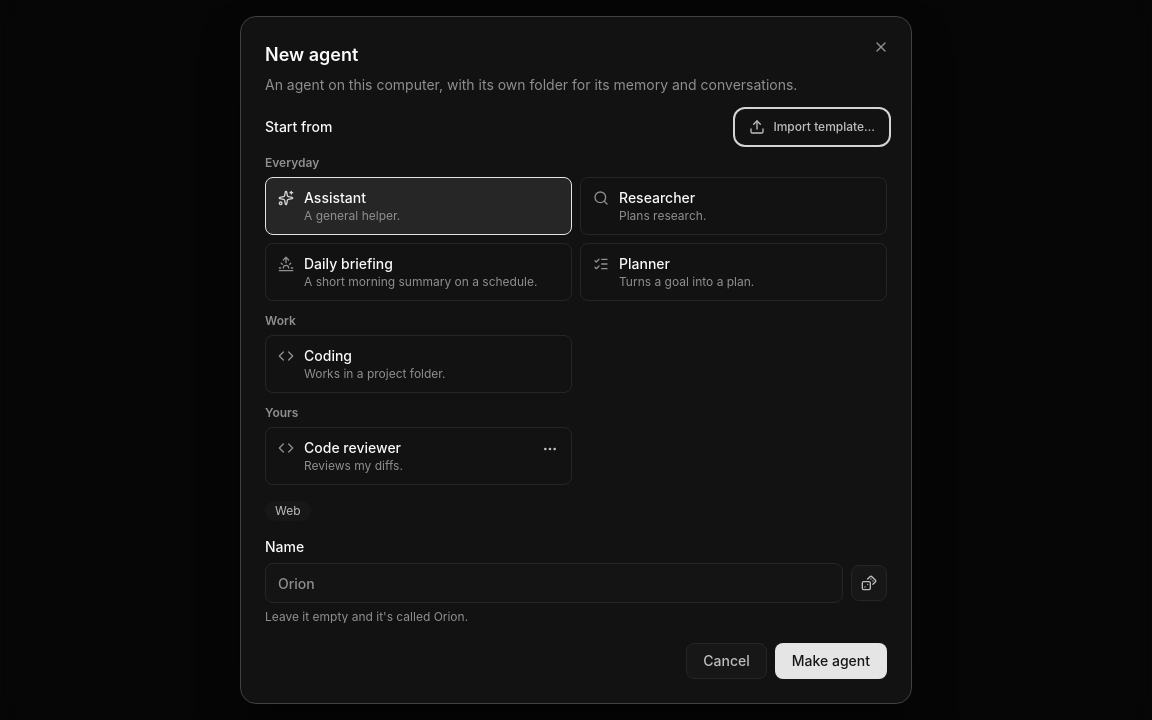
Test case: new agent dialog: importing and deleting templates › deletes one of yours from its menu; built-ins have no menu
Click the radio button labelled "Code reviewer Reviews my diffs.". click: click(353, 448)
box: [265,427,572,485]
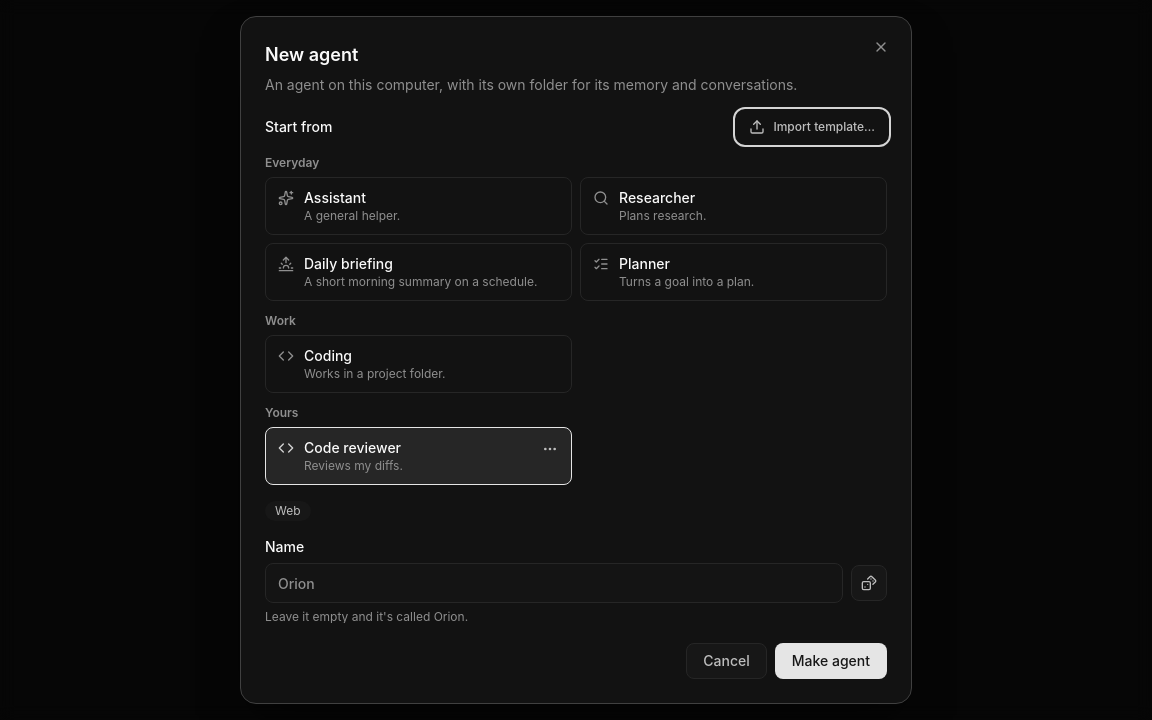
Press Enter in the button named "More for Code reviewer", box [534,433,566,465]
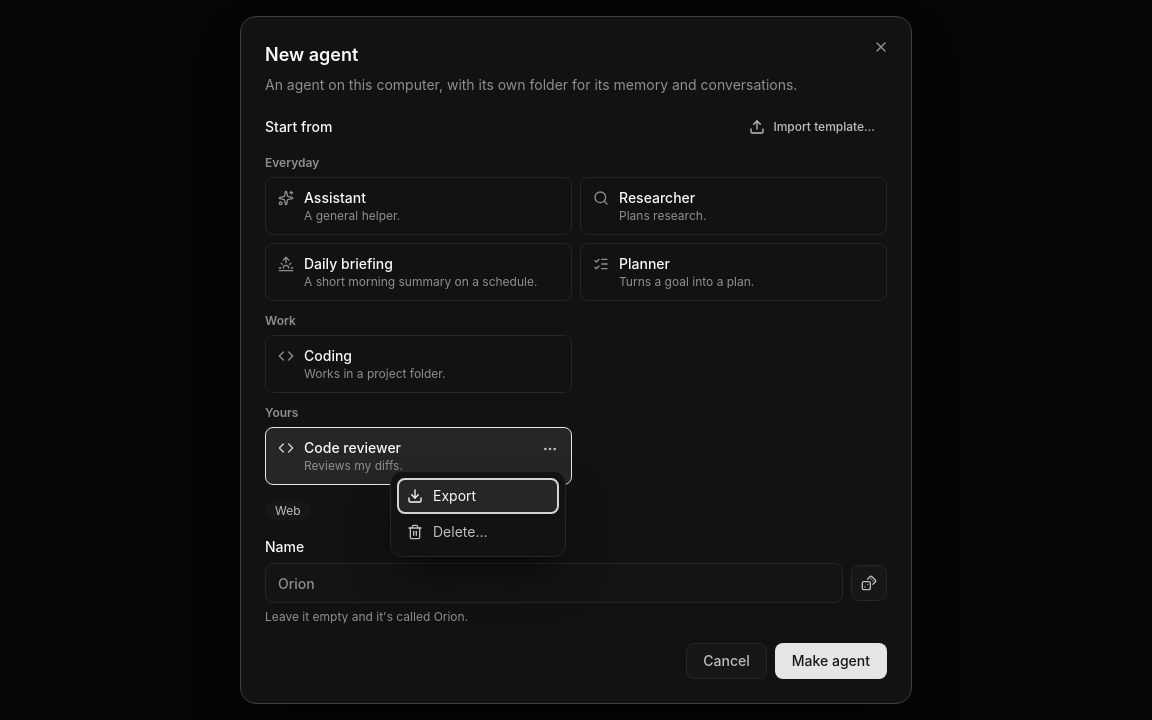
Click the menu item "Delete…". click: click(447, 532)
box: [407,523,488,540]
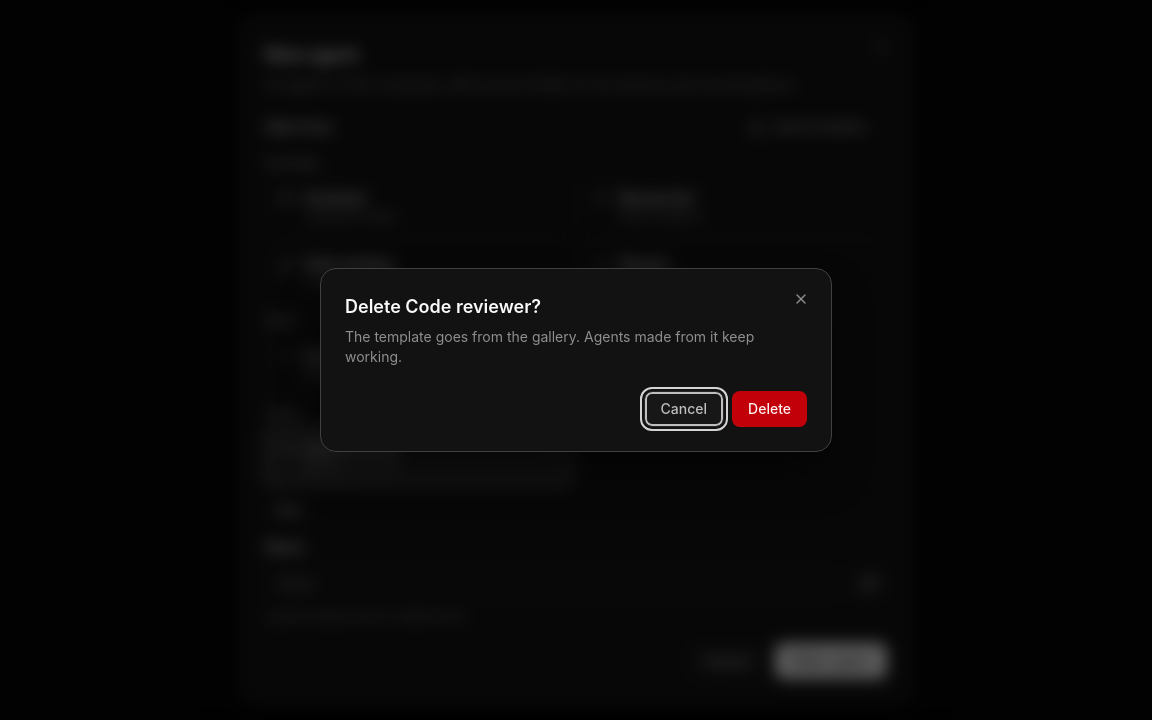
Now the text "Delete Code reviewer?" is shown, box [345,296,541,317]
Click the button "Delete". click: click(770, 409)
box: [732,391,807,427]
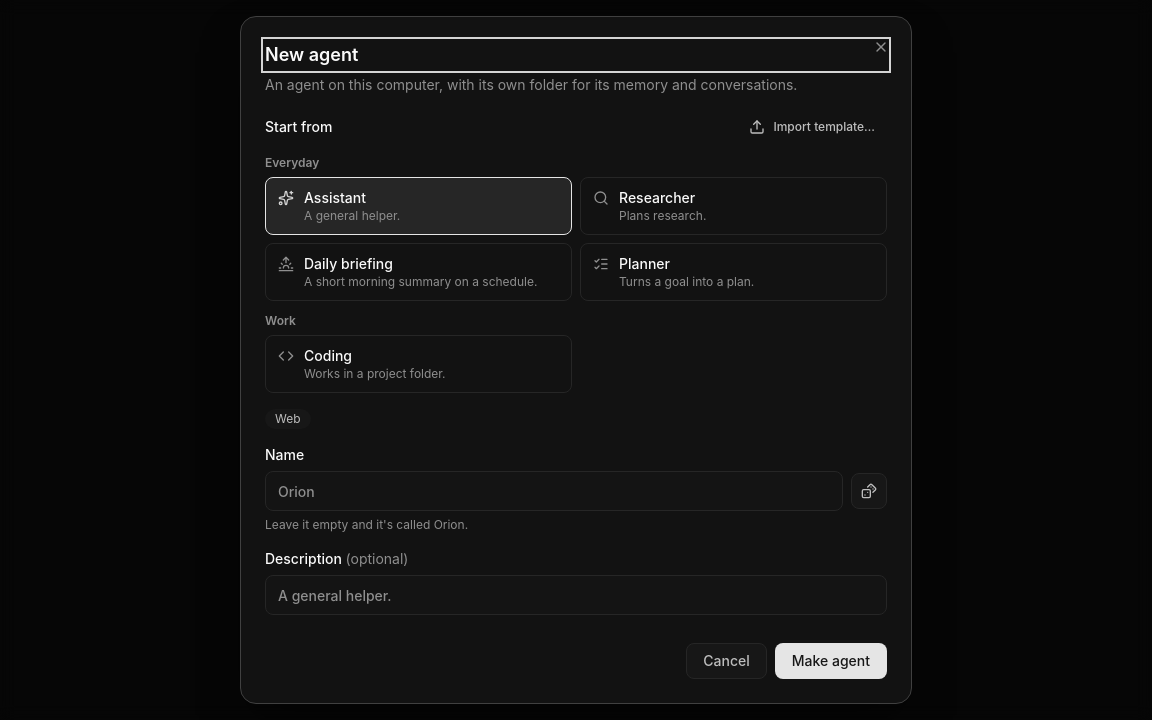
Now the radio button labelled "Assistant A general helper." is checked, box [265,177,572,235]
